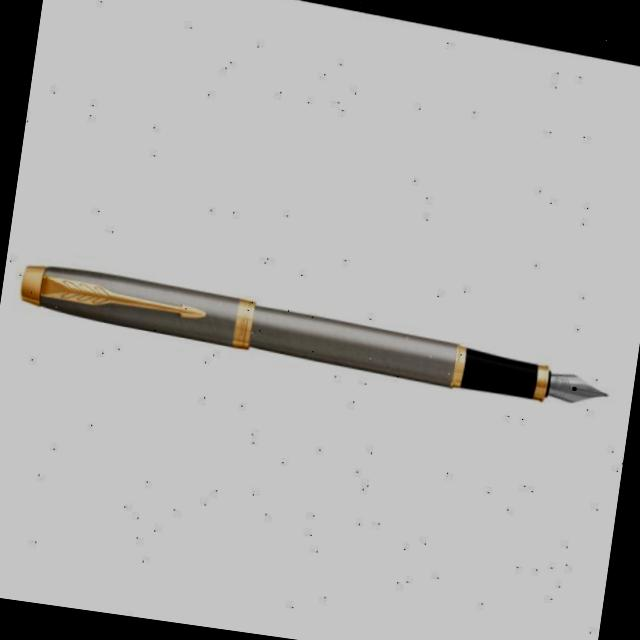Pen - Non Recyclable: (13, 254, 617, 415)
